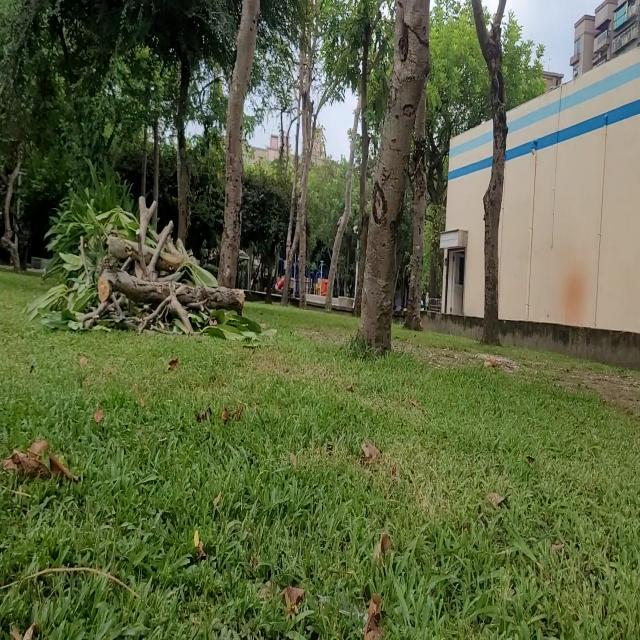Tree: (359, 2, 427, 361), (479, 1, 509, 357), (223, 1, 261, 280), (325, 118, 352, 321), (8, 89, 27, 273), (301, 10, 311, 309), (176, 66, 193, 241), (154, 96, 165, 237)
